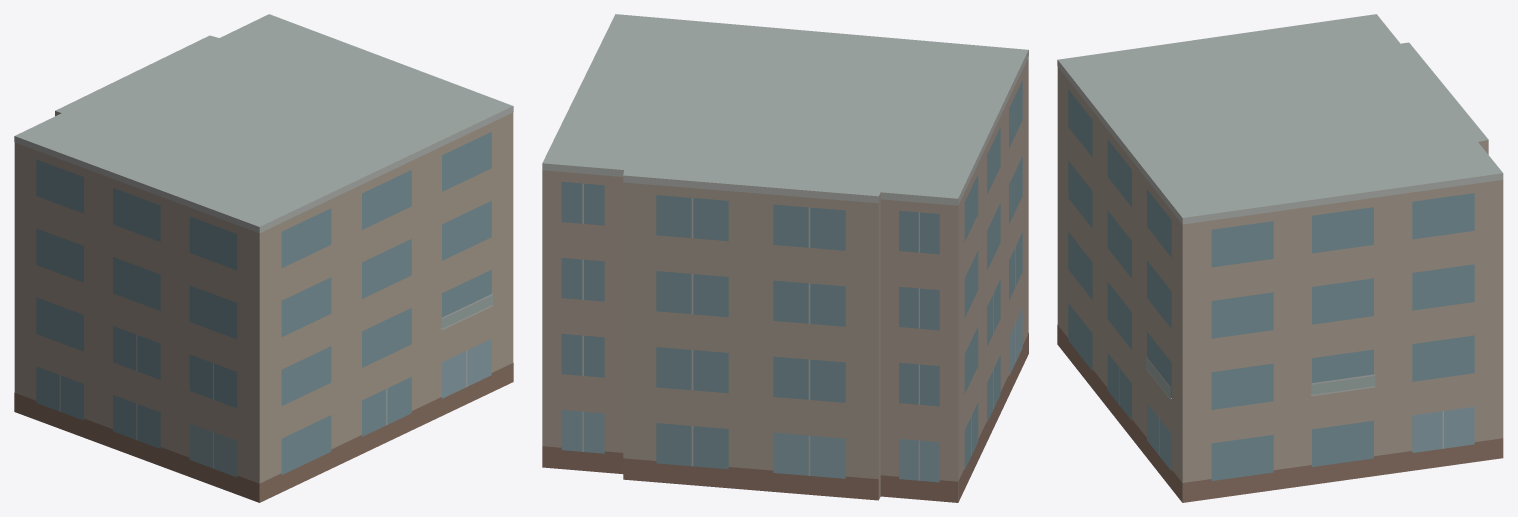
The model's file is survey-upis-32469022.glb.
3 views of the same model, side by side, from view 1: azimuth 30°, elevation 25°; view 2: azimuth 150°, elevation 25°; view 3: azimuth 270°, elevation 25° (orthographic). The views are drawn at different scales.
Visible parts, largest first — view 1: survey-upis-32469022.tmp; view 2: survey-upis-32469022.tmp; view 3: survey-upis-32469022.tmp.
Boxes of the visible parts, box(x1,y1,x2,y2) form: survey-upis-32469022.tmp: box(14, 14, 513, 502); survey-upis-32469022.tmp: box(542, 14, 1028, 502); survey-upis-32469022.tmp: box(1057, 14, 1503, 502).
Bounding box in the file's own units: 16.29 × 10.6 × 15.04.
